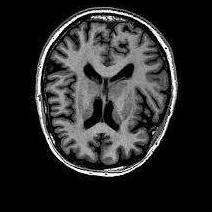Normal_Brain: (16, 1, 212, 212)
